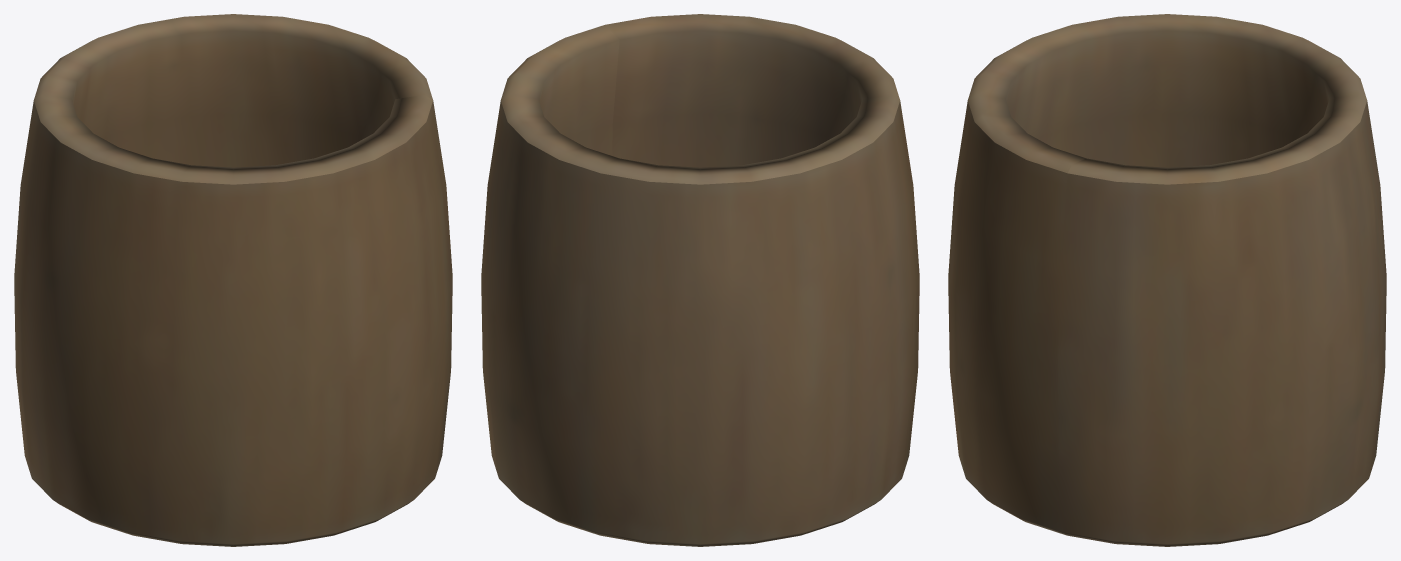
The model's file is SM_Farm_Barrel.fbx.
The picture shows the model from 3 angles, left to right: view 1: azimuth 30°, elevation 25°; view 2: azimuth 150°, elevation 25°; view 3: azimuth 270°, elevation 25°; orthographic projection.
Visible parts, largest first — view 1: SM_Farm_Barrel_LOD0; view 2: SM_Farm_Barrel_LOD0; view 3: SM_Farm_Barrel_LOD0.
Part boxes in pixels (x1,y1,x2,y2): SM_Farm_Barrel_LOD0: (14, 14, 452, 546); SM_Farm_Barrel_LOD0: (481, 14, 919, 546); SM_Farm_Barrel_LOD0: (948, 14, 1386, 546).
Size of the model in its own units: 24.55 by 22.77 by 24.55.
